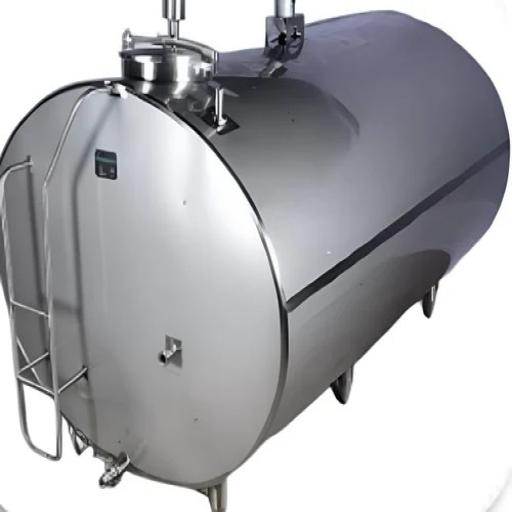silo: (0, 7, 510, 511)
